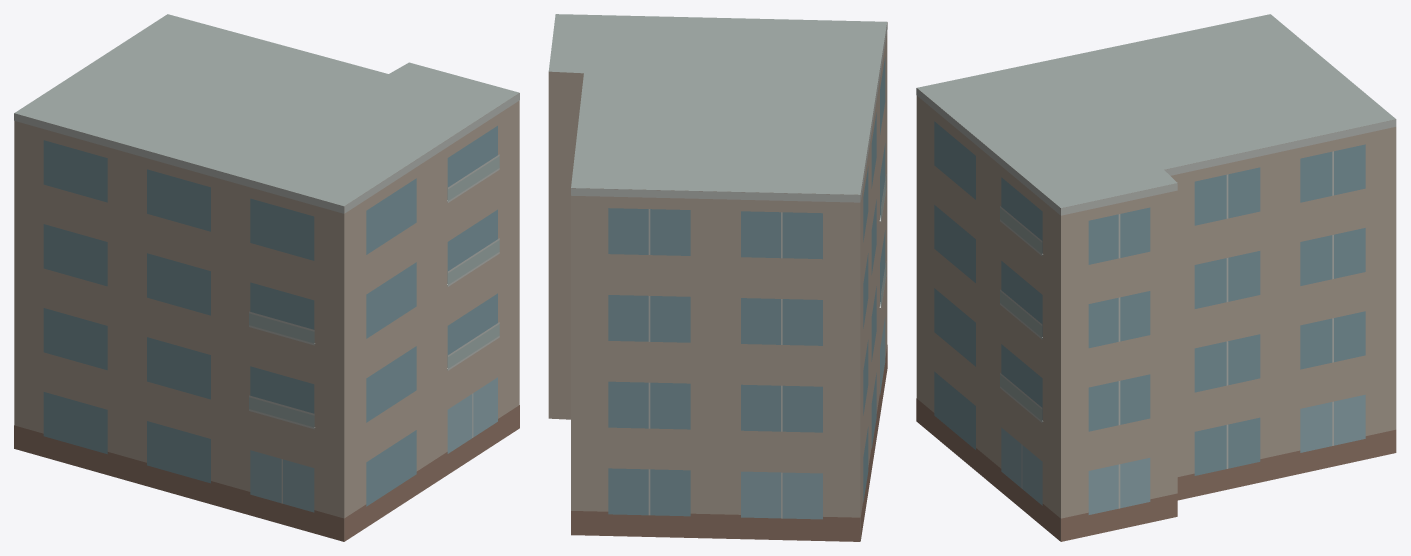
File: survey-upis-32795165.glb
3 views of the same model, side by side, from view 1: azimuth 30°, elevation 25°; view 2: azimuth 150°, elevation 25°; view 3: azimuth 270°, elevation 25° (orthographic). The views are drawn at different scales.
Parts seen in each view (by area): view 1: survey-upis-32795165.tmp; view 2: survey-upis-32795165.tmp; view 3: survey-upis-32795165.tmp.
Boxes of the visible parts, box(x1,y1,x2,y2) form: survey-upis-32795165.tmp: box(14, 14, 519, 541); survey-upis-32795165.tmp: box(548, 14, 887, 541); survey-upis-32795165.tmp: box(916, 14, 1396, 541).
Bounding box in the file's own units: 13.55 × 10.85 × 14.15.
